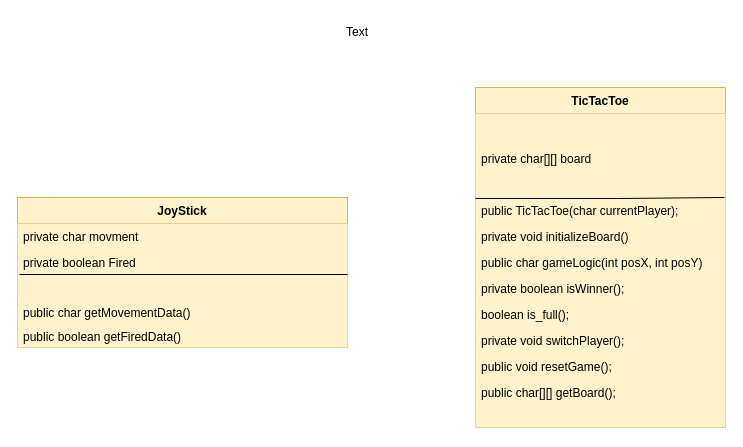
Image size: 743x447. Some labels were removed from this diagram. The centre of each missing label's shape, as x and y in pixels:
private char currentPLayer: the point at 600,129
private char winner: the point at 600,184
private native void JoyStick(char movment, boolean Fired) ): the point at 182,287
public char getWinner();: the point at 600,416
